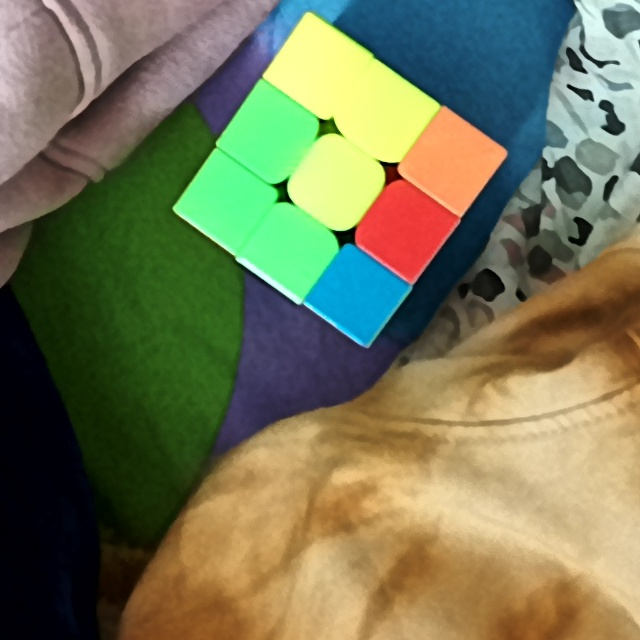tile: (244, 107, 300, 162), (313, 153, 365, 212), (199, 177, 254, 231), (356, 88, 411, 141), (427, 135, 480, 188), (263, 224, 319, 274), (329, 270, 386, 319), (291, 41, 343, 94), (377, 203, 429, 253)
